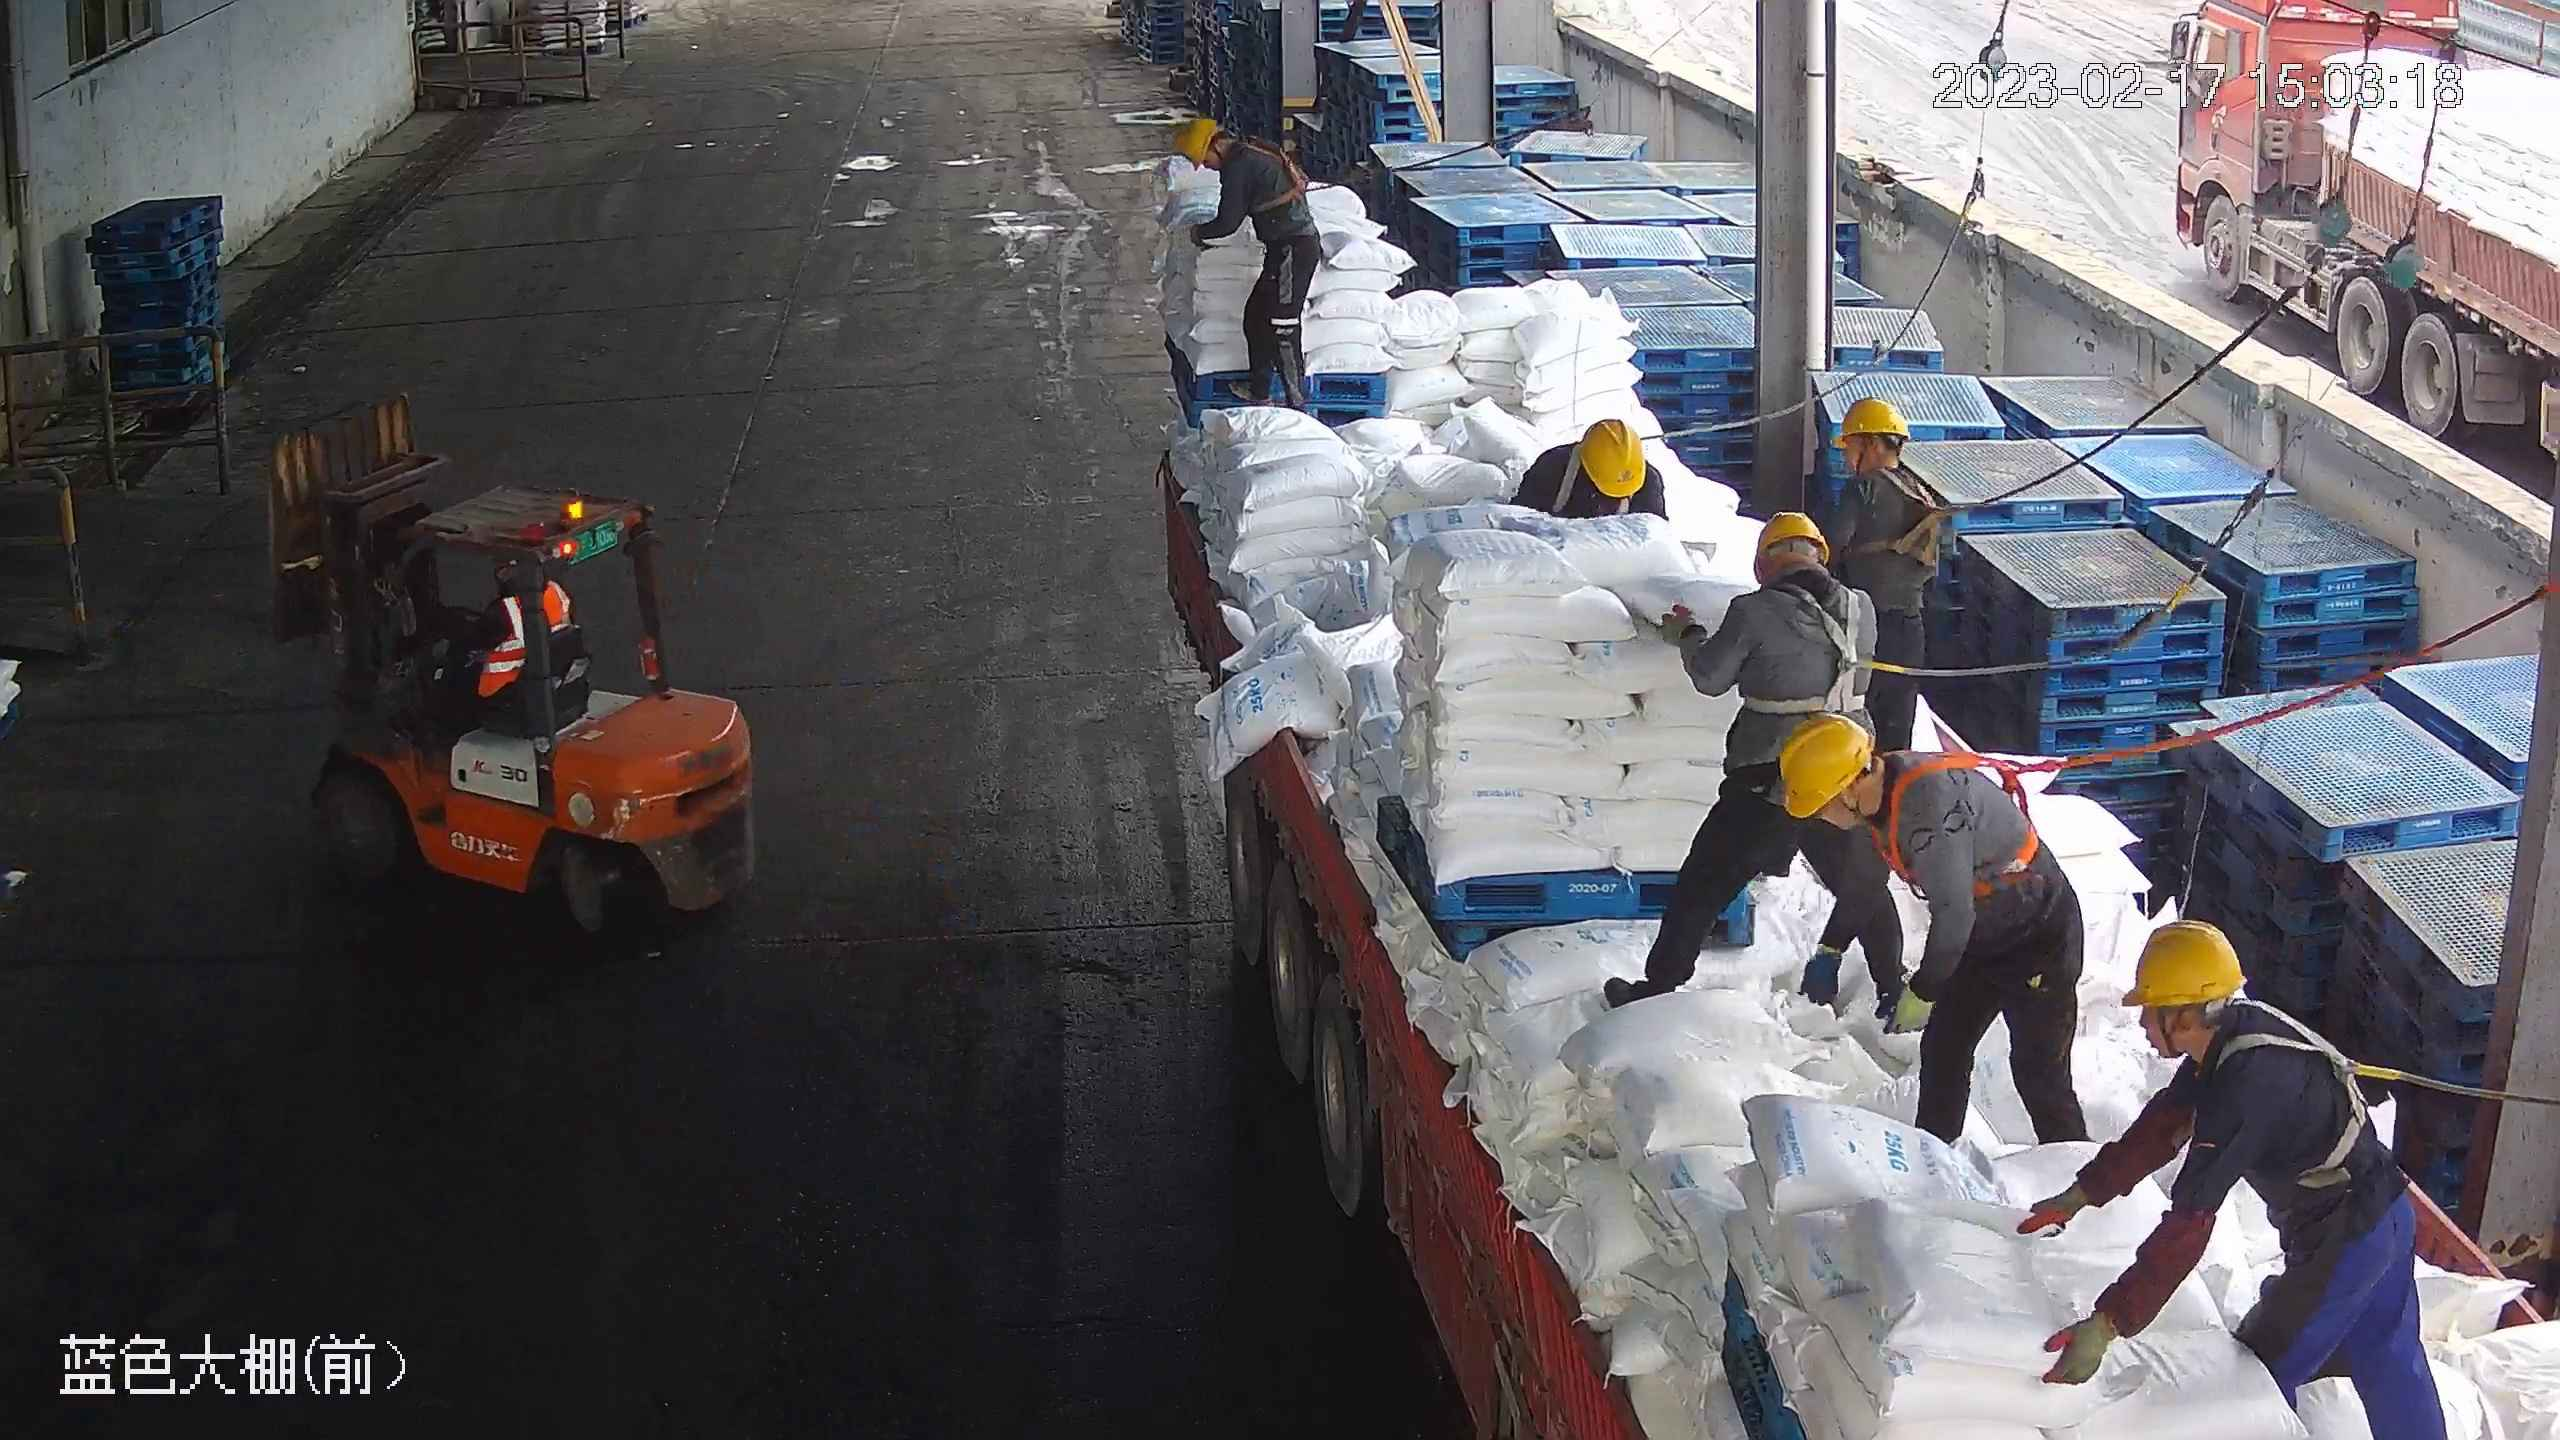belt: (2195, 1000, 2414, 1192), (1868, 737, 2050, 899), (1745, 575, 1894, 719), (1854, 462, 1957, 571), (1237, 135, 1309, 221), (1555, 457, 1635, 514)
head: (2113, 918, 2345, 1112), (1777, 714, 1983, 868), (1716, 508, 1877, 642), (1828, 394, 1948, 523), (1525, 414, 1666, 506), (1178, 116, 1281, 191)
helmet: (2116, 917, 2247, 1009), (1771, 710, 1880, 820), (1571, 416, 1647, 497), (1748, 507, 1829, 569), (1830, 395, 1912, 449), (1175, 115, 1220, 165)
people: (2015, 915, 2450, 1437), (1777, 714, 2096, 1158), (1608, 505, 1881, 1016), (1175, 115, 1327, 410), (1826, 392, 1946, 760), (413, 564, 551, 748)
truck: (1092, 145, 2544, 1427)
